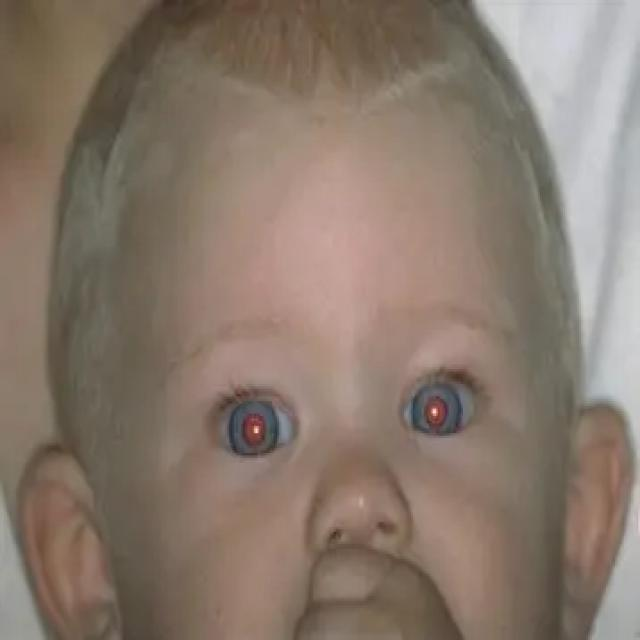reflexo-normal: (214, 391, 300, 475), (401, 372, 478, 462)
